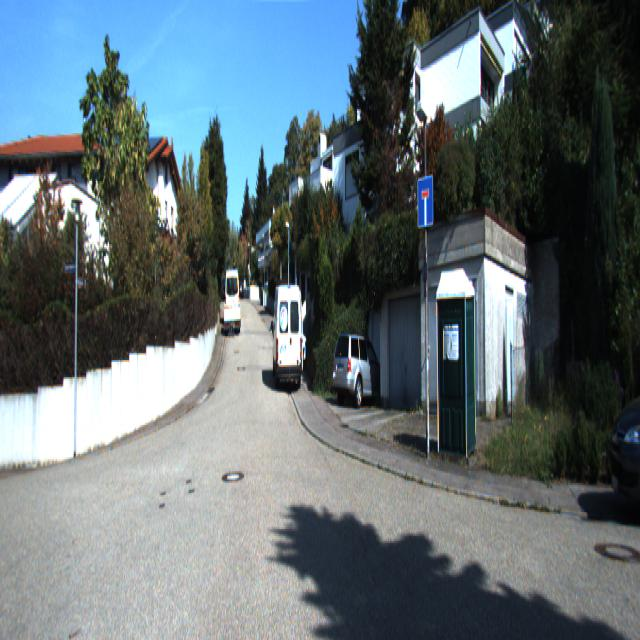Car: (606, 312, 640, 520), (331, 329, 392, 407), (272, 280, 306, 391), (225, 270, 239, 326), (224, 304, 242, 334)
